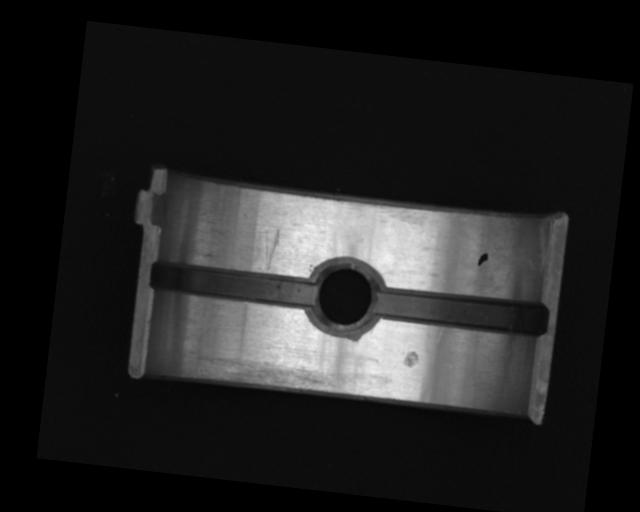blot: (476, 252, 489, 267)
bruise: (402, 349, 420, 368)
gap: (370, 284, 550, 339), (148, 259, 315, 310)
hole: (302, 253, 384, 340)
nick: (259, 224, 282, 275)
scratch: (185, 351, 346, 398)
